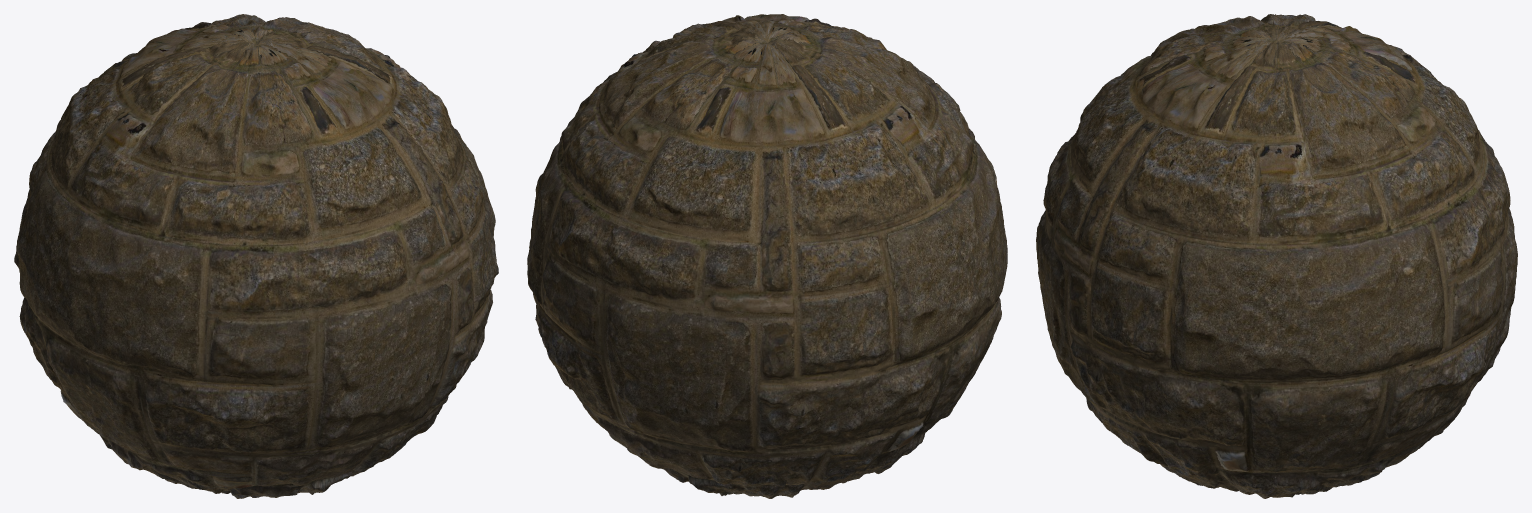
File: stone_brick_wall_001_1k.gltf
3 renders of one model, left to right at view 1: azimuth 30°, elevation 25°; view 2: azimuth 150°, elevation 25°; view 3: azimuth 270°, elevation 25°, orthographic.
Parts seen in each view (by area): view 1: sphere_gltf; view 2: sphere_gltf; view 3: sphere_gltf.
Part boxes in pixels (box(x1,y1,x2,y2)): sphere_gltf: box(14, 14, 498, 498); sphere_gltf: box(527, 14, 1007, 498); sphere_gltf: box(1036, 14, 1517, 498).
Bounding box in the file's own units: 2.54 × 2.55 × 2.53.
1 material, 1 textured.
